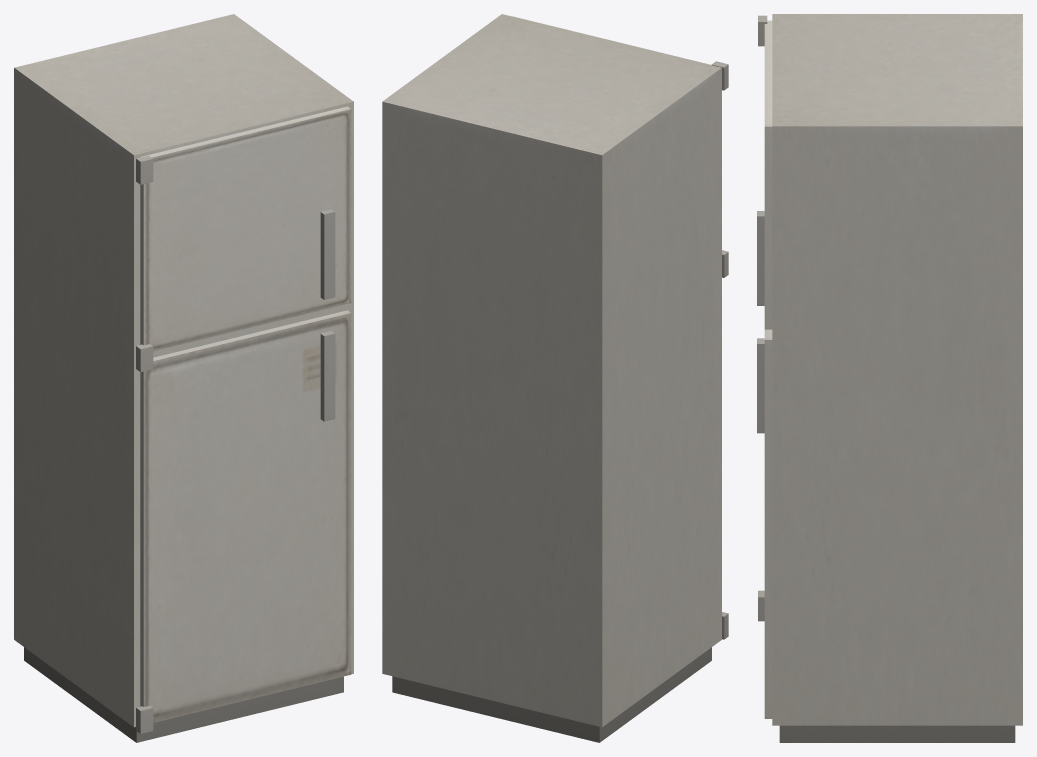
File: fridge.glb
3 renders of one model, left to right at view 1: azimuth 30°, elevation 25°; view 2: azimuth 150°, elevation 25°; view 3: azimuth 270°, elevation 25°, orthographic. The views are drawn at different scales.
Visible parts, largest first — view 1: core_fridge; view 2: core_fridge; view 3: core_fridge.
Part boxes in pixels (box(x1,y1,x2,y2)): core_fridge: box(14, 14, 353, 742); core_fridge: box(382, 14, 728, 742); core_fridge: box(757, 14, 1022, 742).
Size of the model in its own units: 0.7 by 1.8 by 0.7.
1 material, 1 textured.
